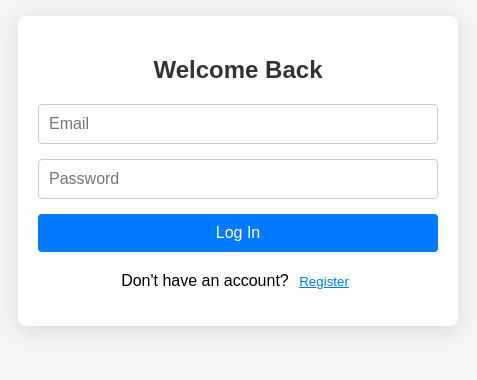
Test: Login Component › shows an error message on login failure
The width and height of the screenshot is (477, 380).
# Enter valid credentials
Type "test@example.com" into the field with placeholder "Email".
click(238, 124); type("test@example.com")  # box [38,104,438,144]
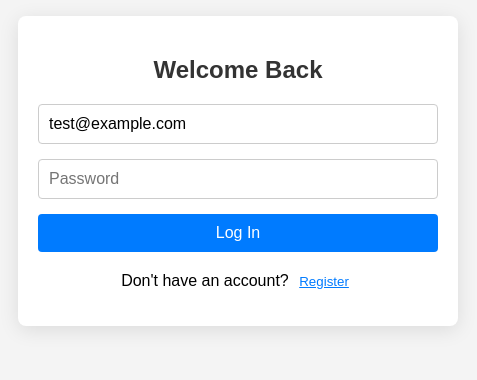
Type "ValidPassword1!" into the password field with placeholder "Password".
click(238, 179); type("ValidPassword1!")  # box [38,159,438,199]
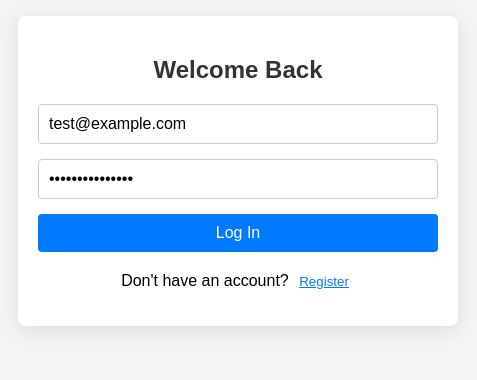
# Submit the form
Click the button "Log In".
click(238, 233)  # box [38,214,438,252]
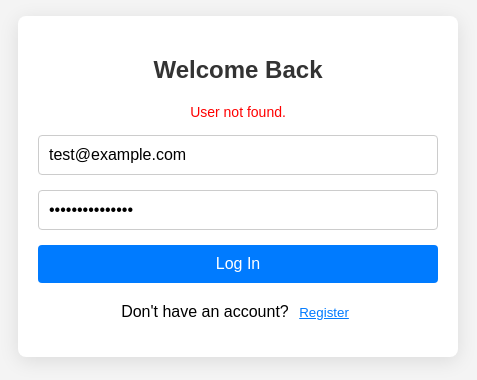
expect the text "User not found." is shown: met, box [190,104,286,120]
